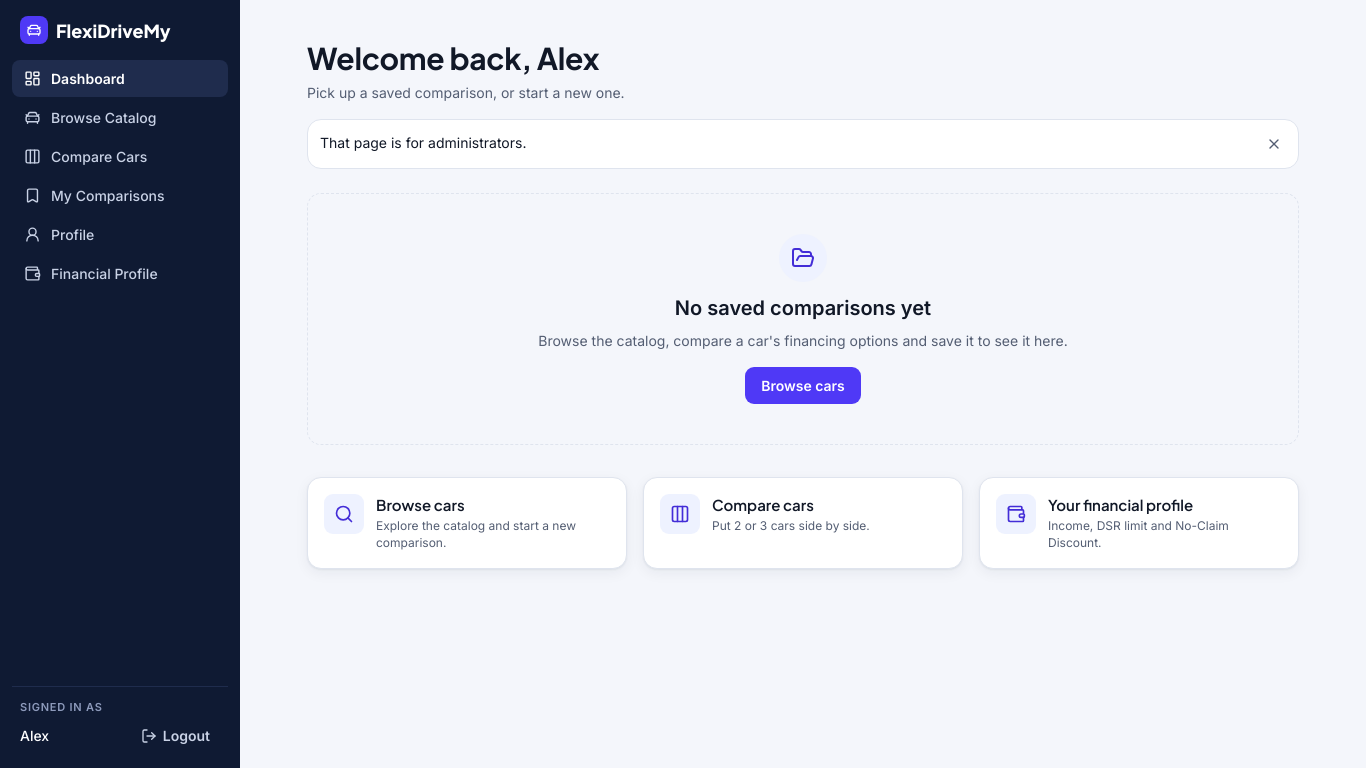
App routes (FX-2) › a buyer on an admin address gets the dashboard with a notice that can be dismissed
The image size is (1366, 768).
Expected: the text "That page is for administrators." is shown, [320,132,526,152]
Expected: the heading "Welcome back, Alex" is shown, [307,39,599,77]
Click the button named "Dismiss". click: (1274, 144)
box: [1262,132,1286,156]
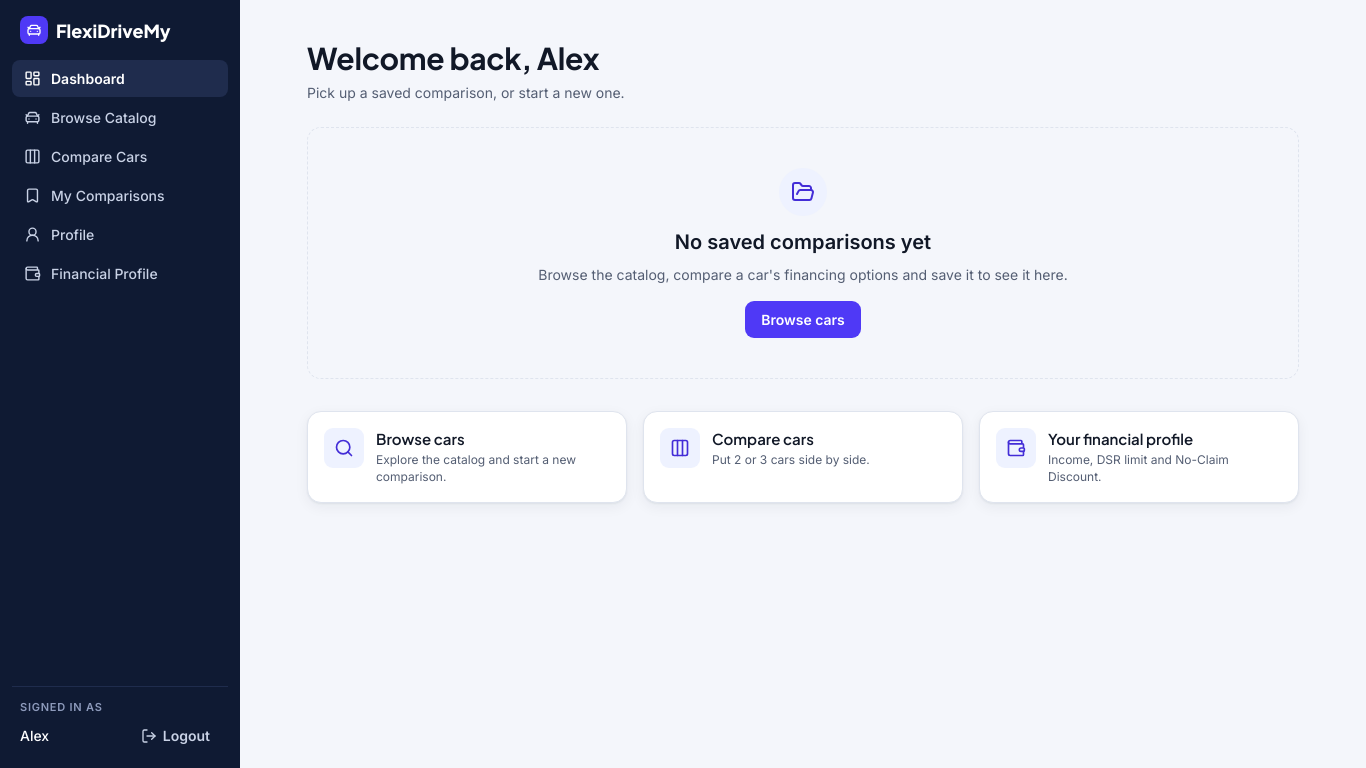
Now the text "That page is for administrators." is gone
